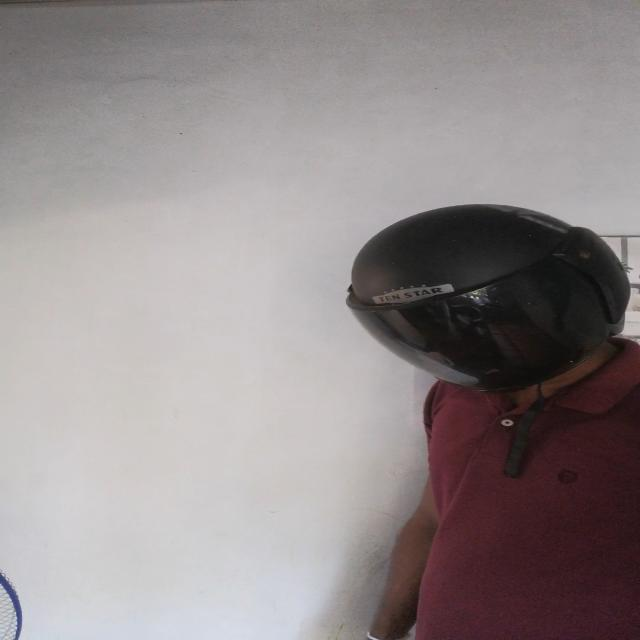Helmet_Wearer: (309, 201, 640, 420)
